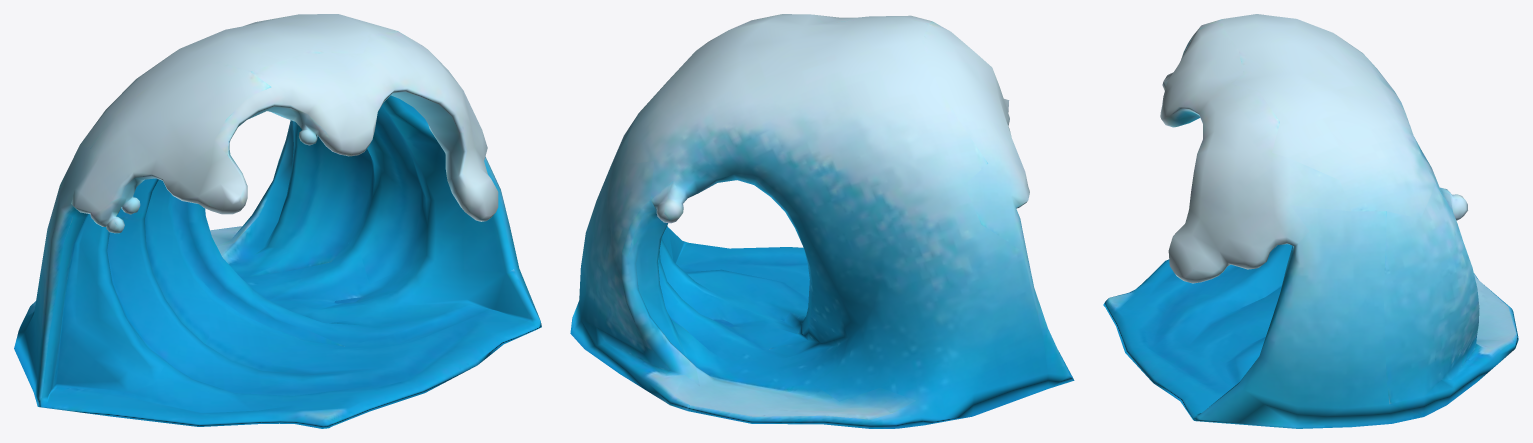
File: flood.glb
3 views of the same model, side by side, from view 1: azimuth 30°, elevation 25°; view 2: azimuth 150°, elevation 25°; view 3: azimuth 270°, elevation 25° (orthographic). The views are drawn at different scales.
Size of the model in its own units: 0.9653 by 0.6113 by 0.8057.
1 material, 1 textured.
